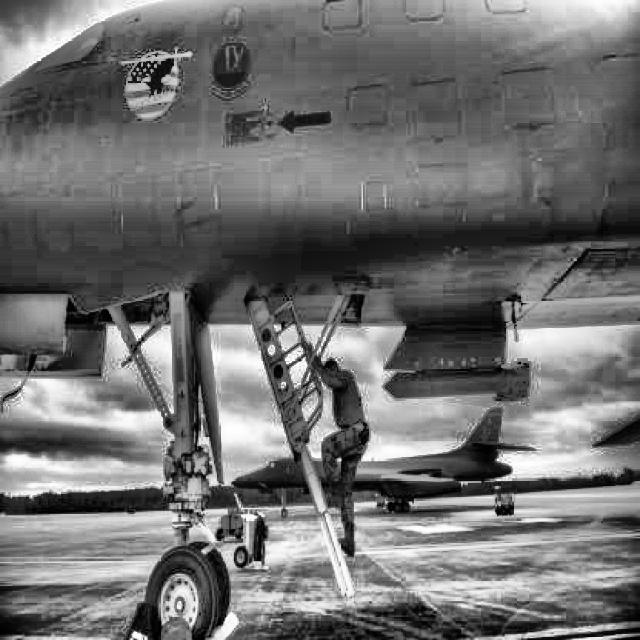B1: (0, 0, 638, 638), (229, 407, 537, 518)
